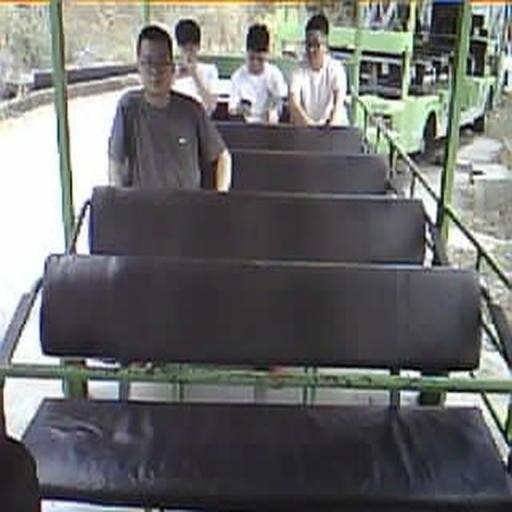persona: (107, 22, 232, 191), (288, 14, 350, 128), (227, 23, 289, 125), (171, 18, 220, 116)
